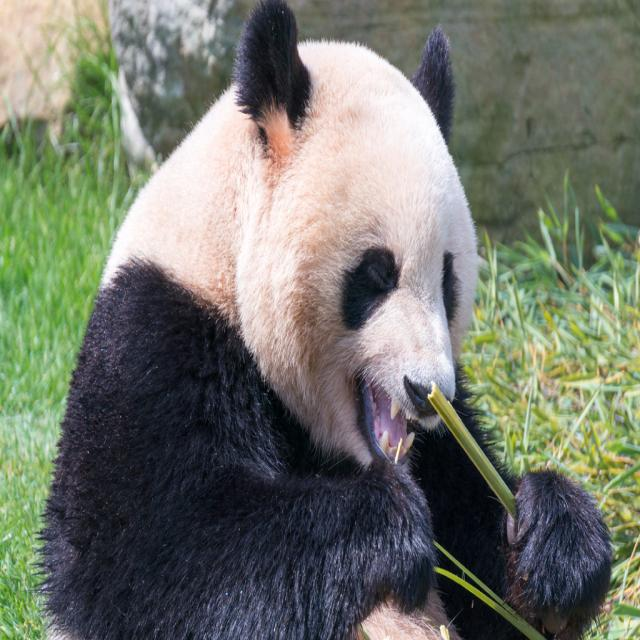panda: (25, 0, 612, 639)
